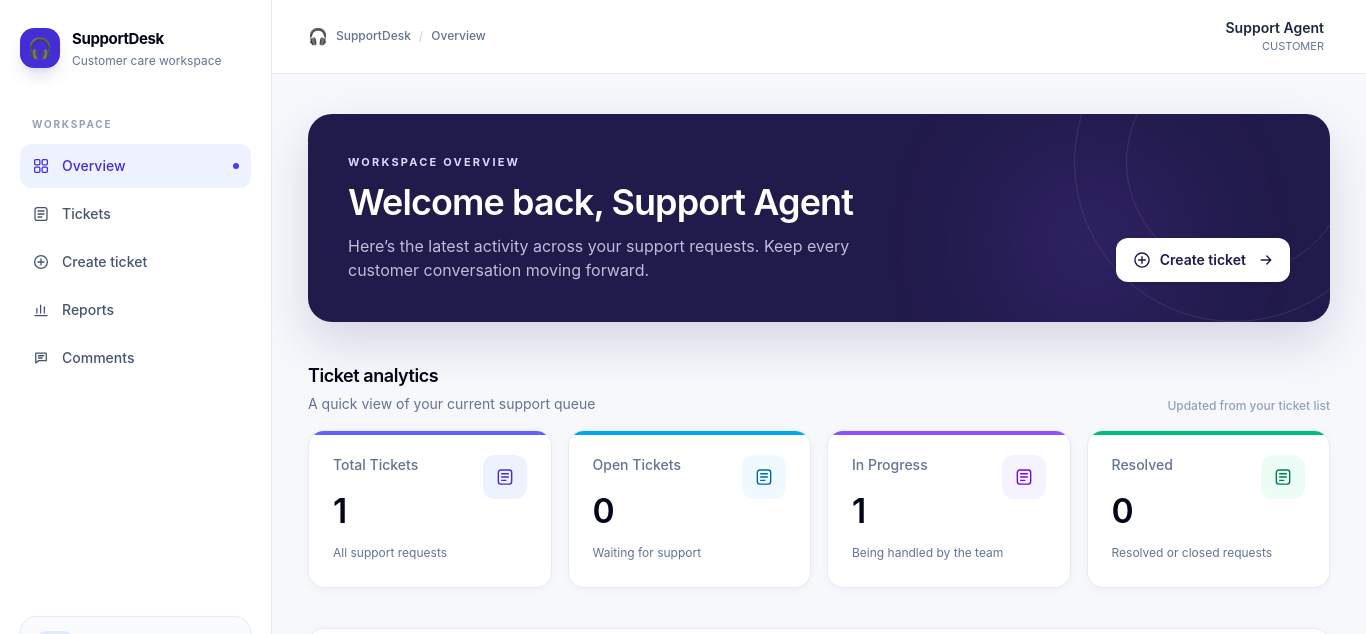
Test: SupportDesk frontend foundation › opens Customer Reports from the sidebar using only the customer's tickets
The image size is (1366, 634).
Click the link "Reports": coordinates (73, 310) [32,300,114,318]
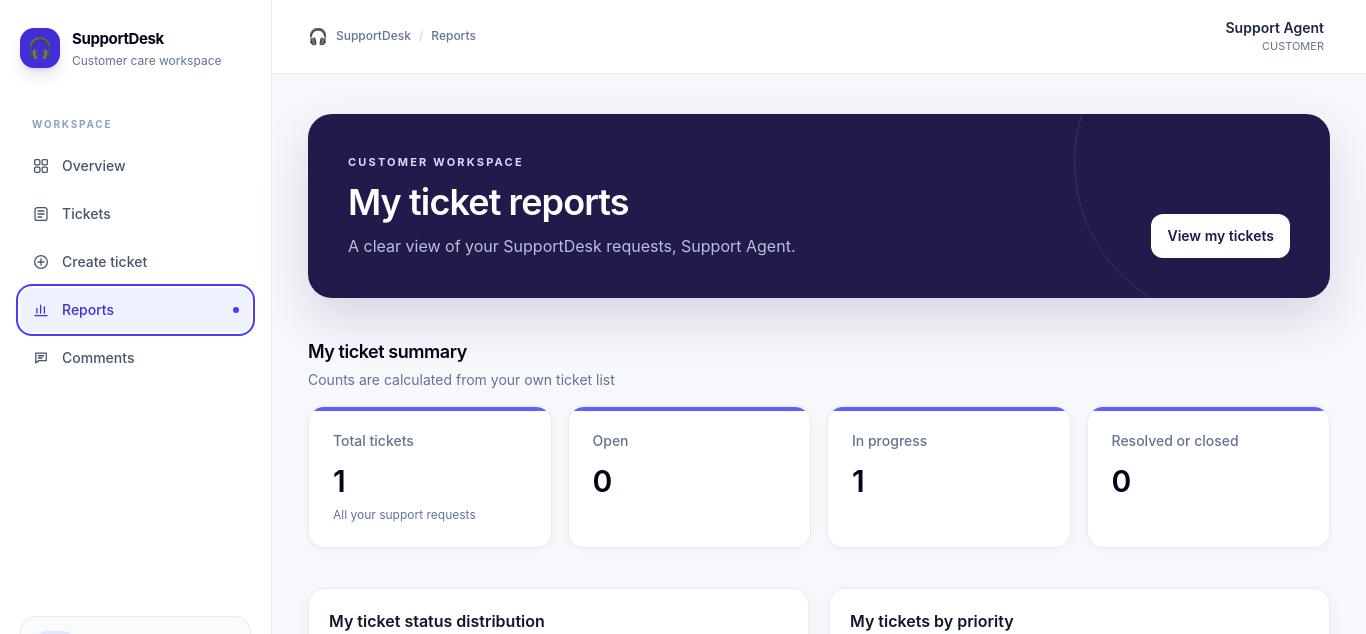
expect the text "Total tickets" is shown: met, box [333,432,414,449]
expect the heading "My ticket reports" is shown: met, box [348,180,629,224]
expect the heading "My tickets by priority" is shown: met, box [850,611,1014,631]
